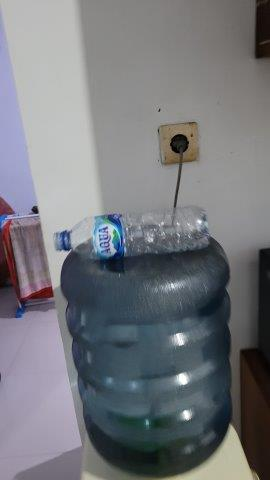botolplastik: (52, 205, 212, 258)
